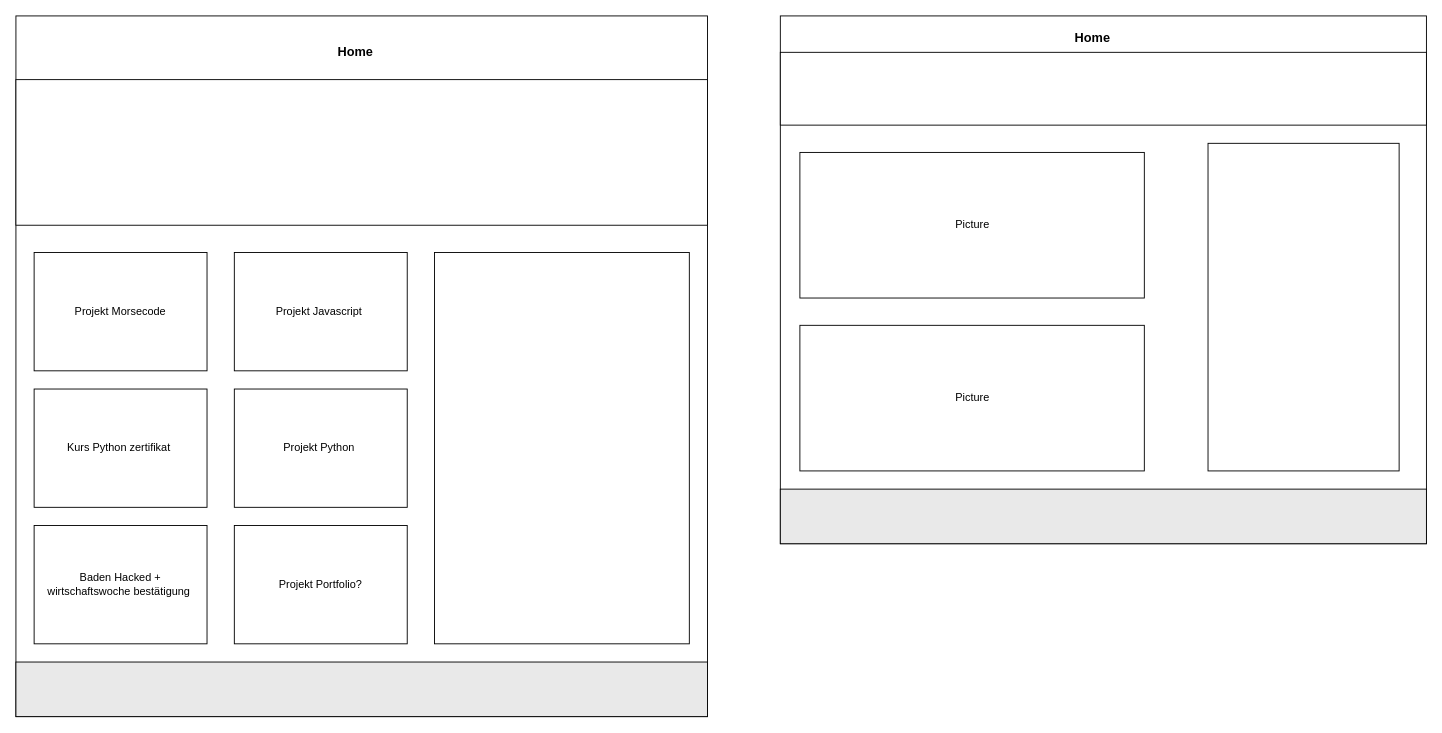
Image size: 1442x733. Some labels were removed from this diagram. Here are the shapes that lost their labels. From the top down, the centre of each, then its label:
At pixel 1102 88: "Projekt Beispiel".
At pixel 361 152: "titel des portfolios".
At pixel 1303 306: "text".
At pixel 561 448: "Daten und informationen".
